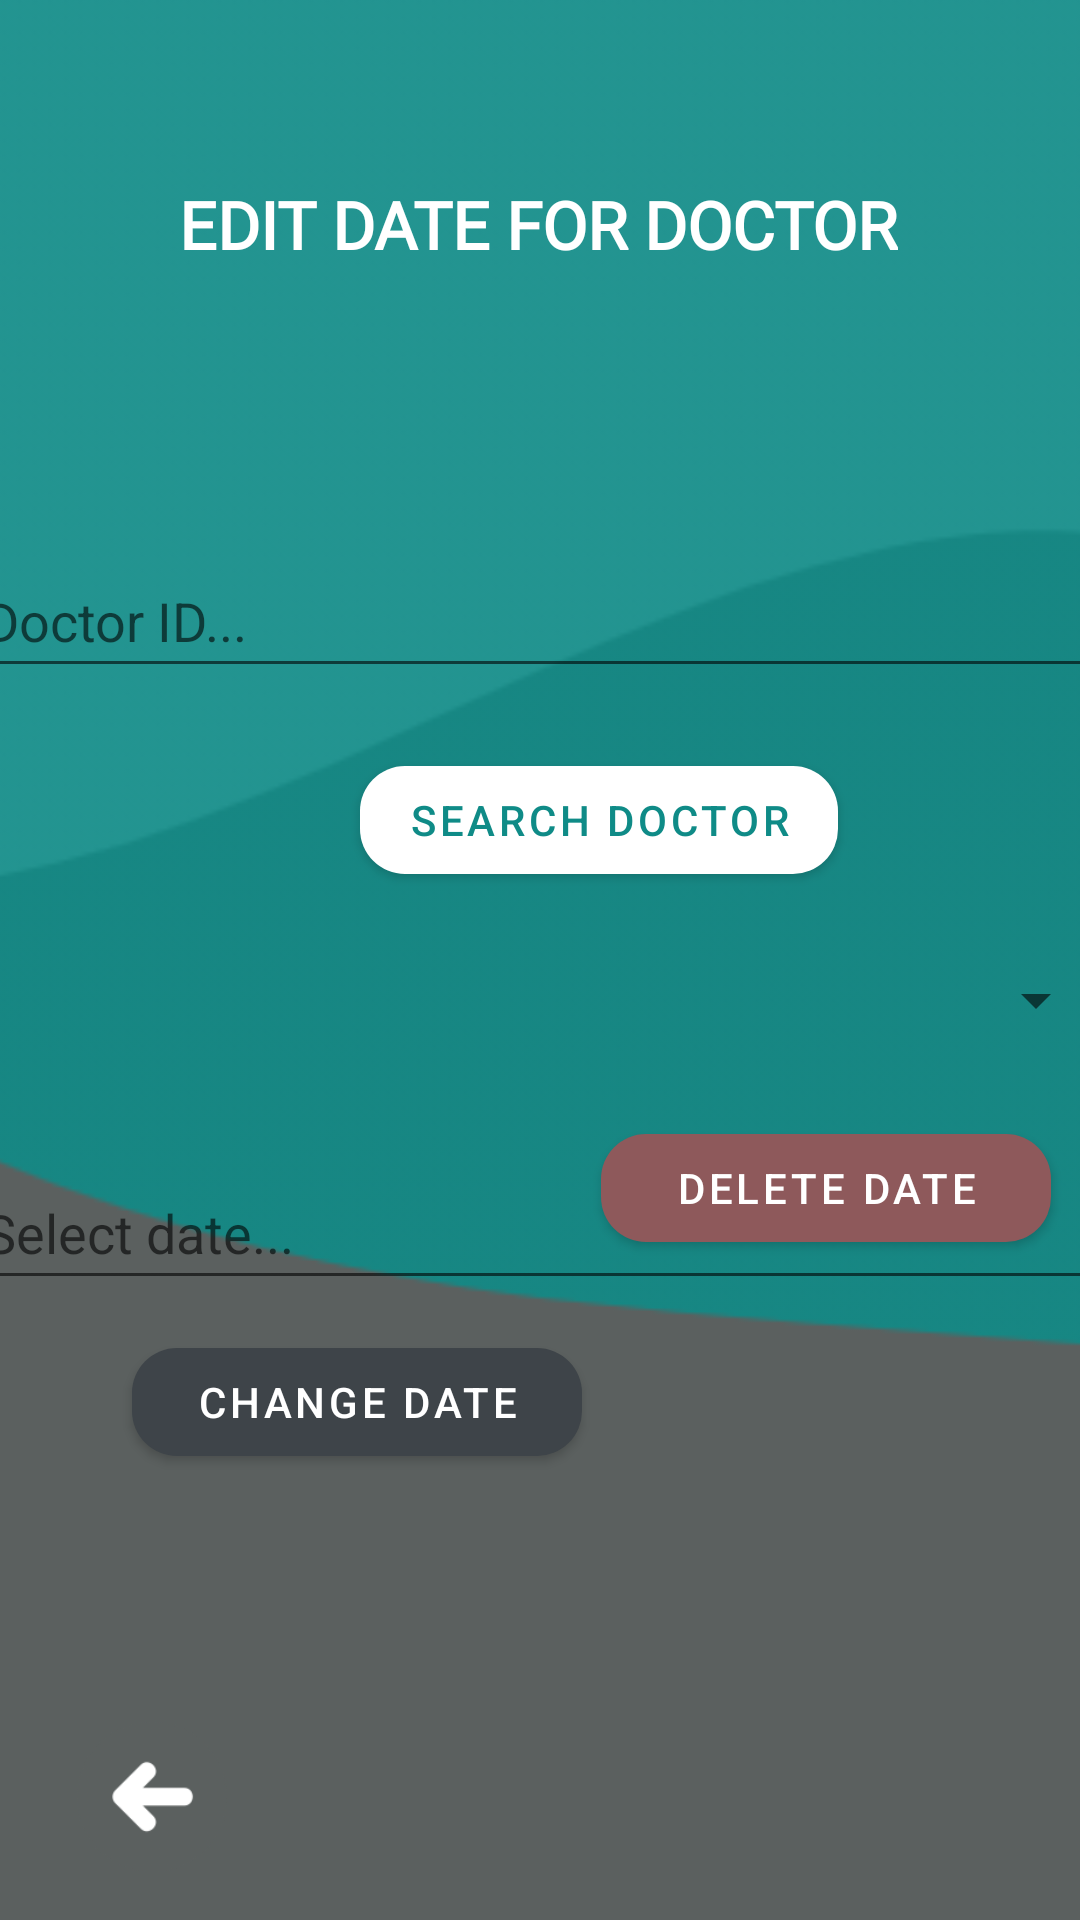

Screen size 1080 × 1920. Icon name, then its center in pixels as (x,y):
previous: (152,1797)
